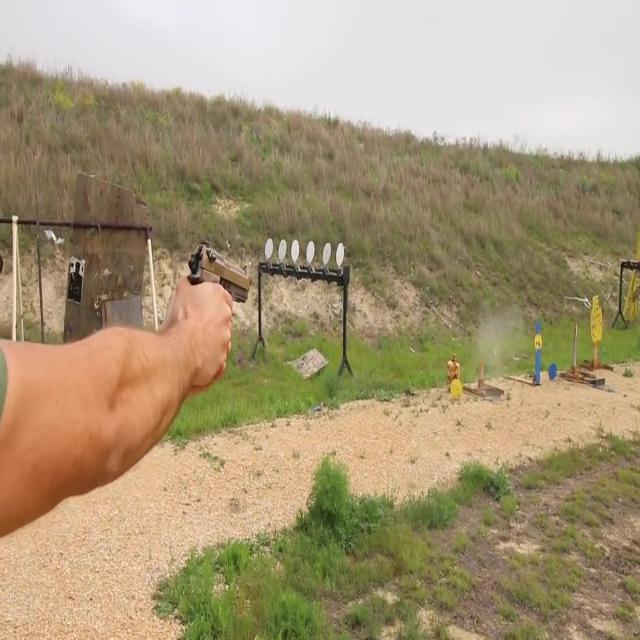Weapon: (171, 196, 317, 401)
